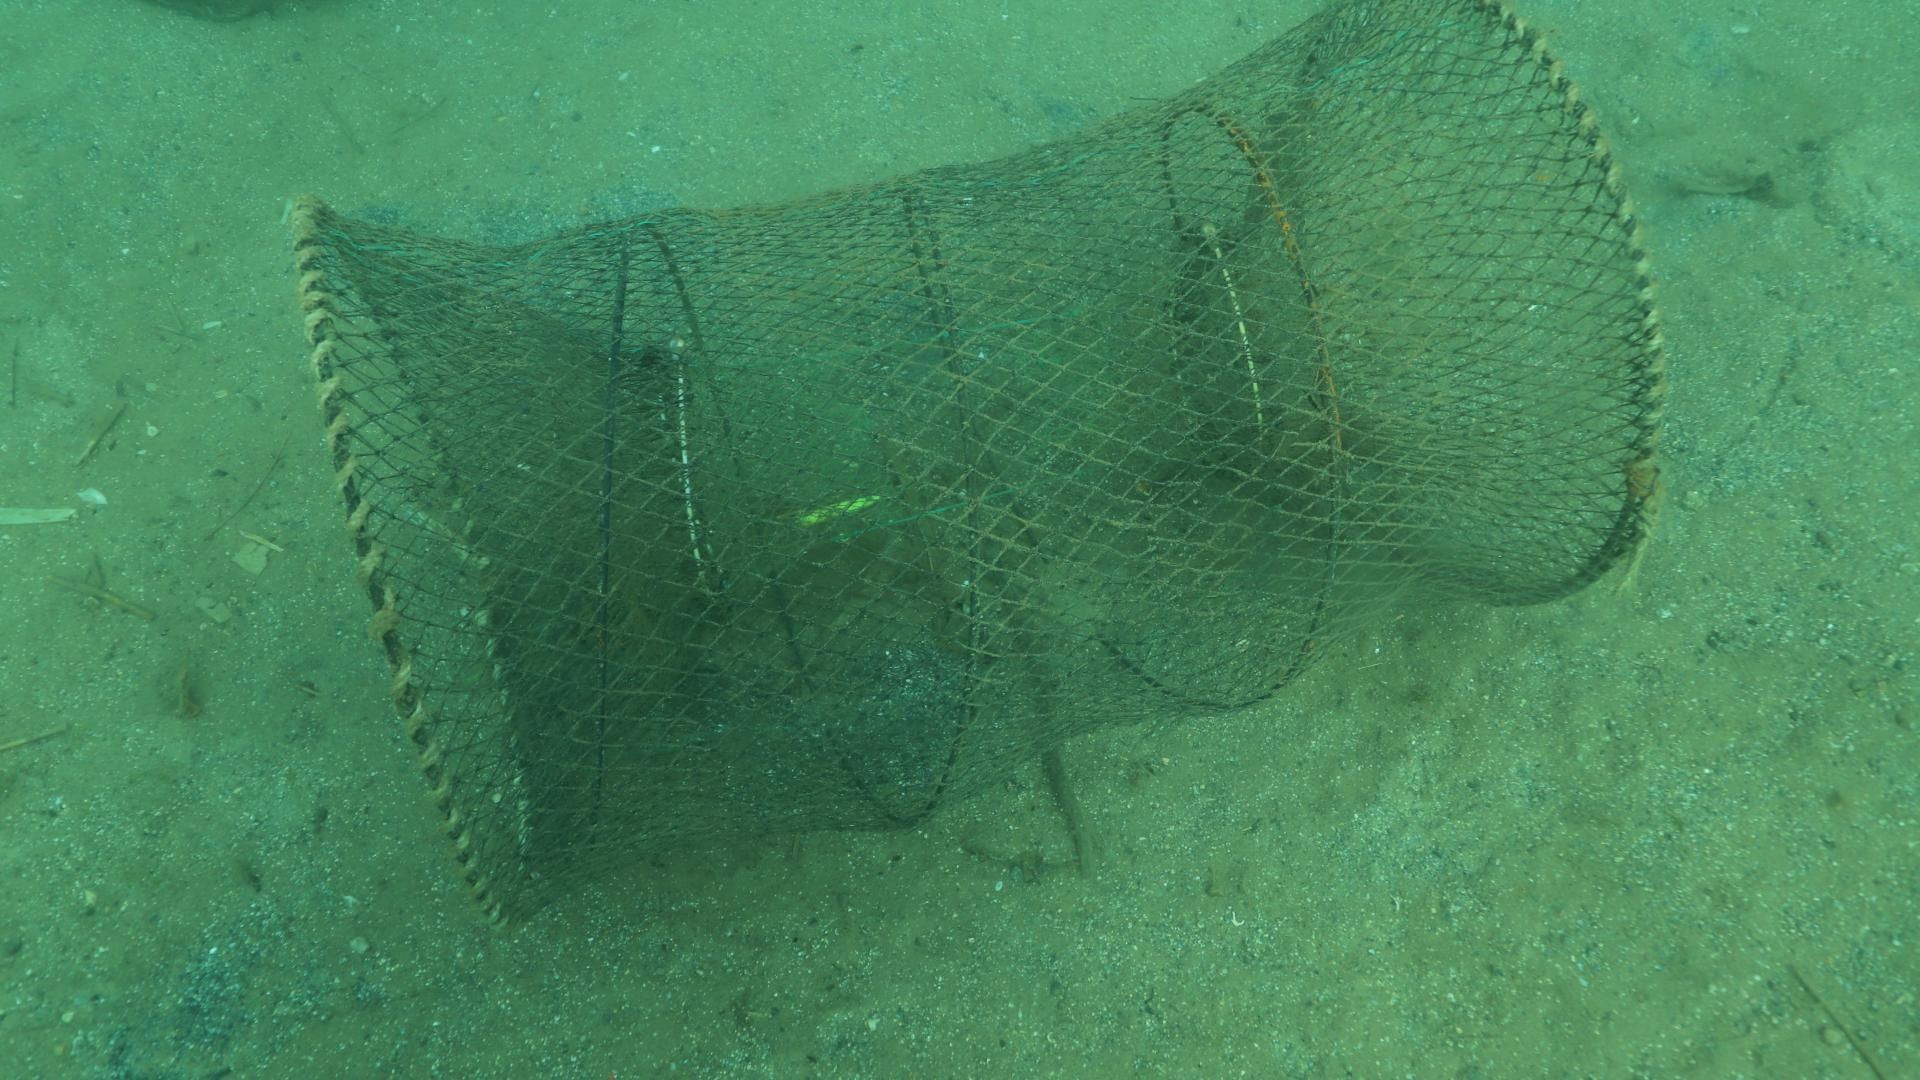spring fish trap: (286, 0, 1667, 934)
